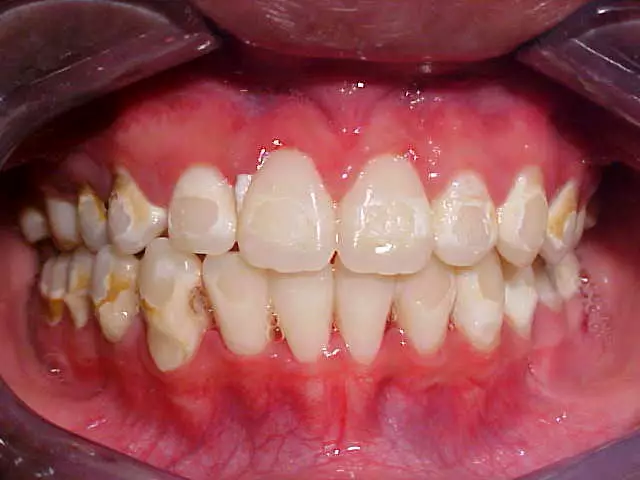LL1BC_healthy: (507, 268, 540, 343)
LLCI_healthy: (332, 276, 391, 364)
LLC_healthy: (451, 268, 504, 353)
LLLI_healthy: (393, 275, 453, 358)
LR1BC_decay: (92, 258, 142, 352)
LRCI_healthy: (270, 271, 333, 367)
LRC_decay: (138, 260, 205, 378)
LRLI_healthy: (207, 266, 275, 356)
UL1BC_decay: (549, 180, 578, 266)
ULCI_healthy: (337, 152, 433, 272)
ULC_healthy: (497, 160, 545, 270)
ULLI_healthy: (432, 168, 497, 271)
UR1BC_decay: (79, 183, 108, 251)
UR2BC_decay: (48, 196, 80, 247)
URCI_healthy: (236, 149, 337, 271)
URC_decay: (107, 167, 166, 256)
URLI_healthy: (170, 162, 236, 271)
